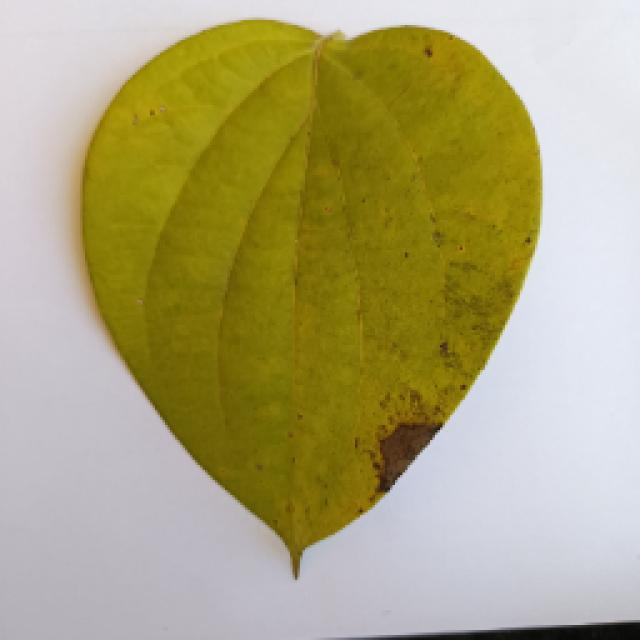slow-decline: (50, 22, 618, 600)
